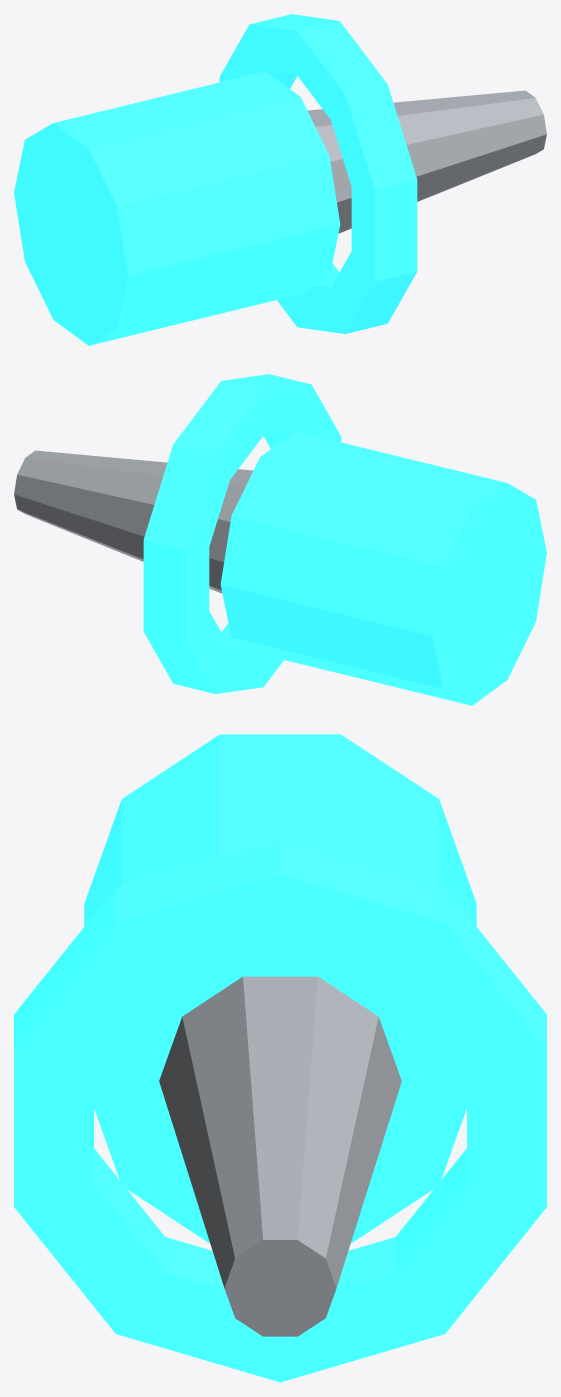
File: opr_prj_kinetic_slug_a.glb
3 renders of one model, top to bottom at view 1: azimuth 30°, elevation 25°; view 2: azimuth 150°, elevation 25°; view 3: azimuth 270°, elevation 25°, orthographic. The views are drawn at different scales.
Parts seen in each view (by area): view 1: mesh_intact; view 2: mesh_intact; view 3: mesh_intact.
Boxes of the visible parts, x1,y1,x2,y2 form: mesh_intact: (14, 14, 546, 345); mesh_intact: (14, 374, 546, 705); mesh_intact: (14, 734, 546, 1382).
Size of the model in its own units: 0.065 by 0.04 by 0.038.
